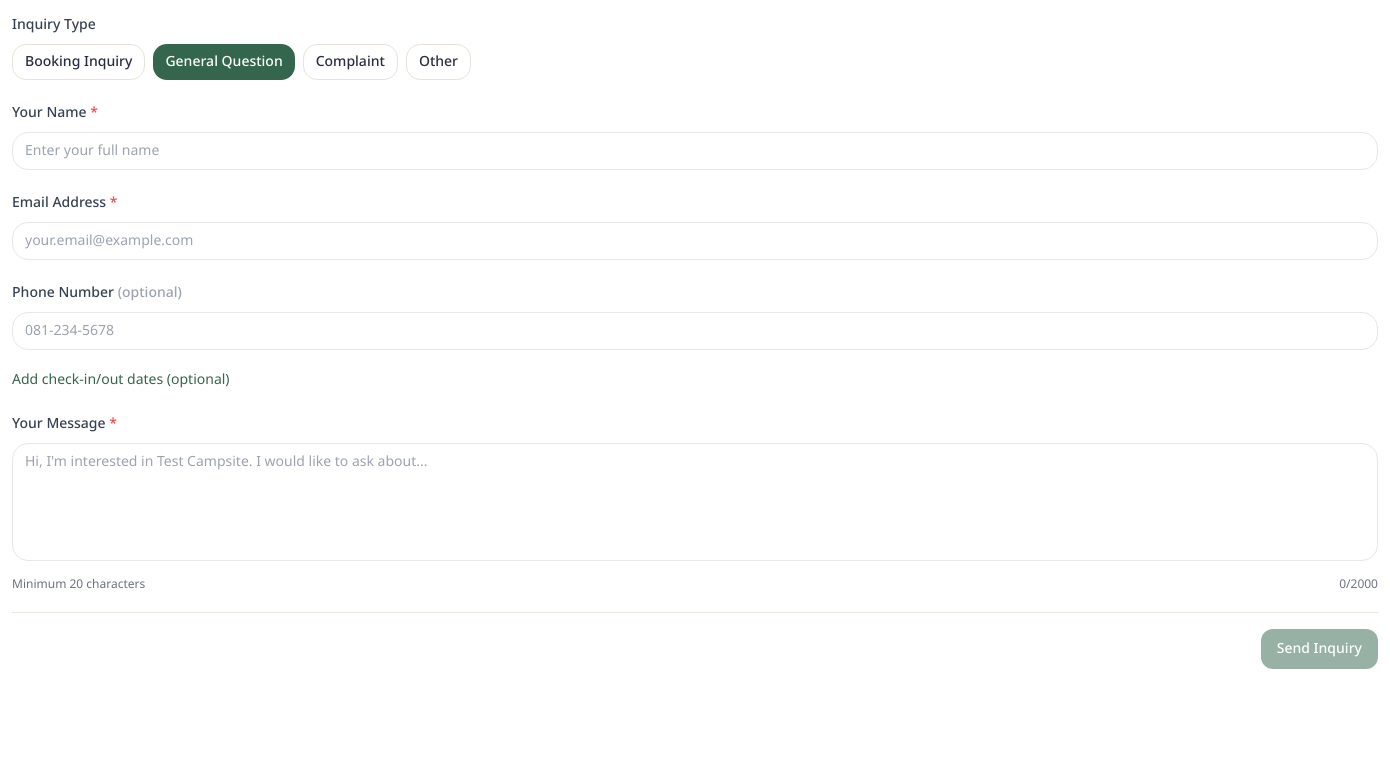
InquiryForm › Form Validation › shows error for name less than 2 characters
This screenshot has width=1390, height=780.
In the field labelled "Your Name *": [695, 151] box [12,132,1378,170], type "A"
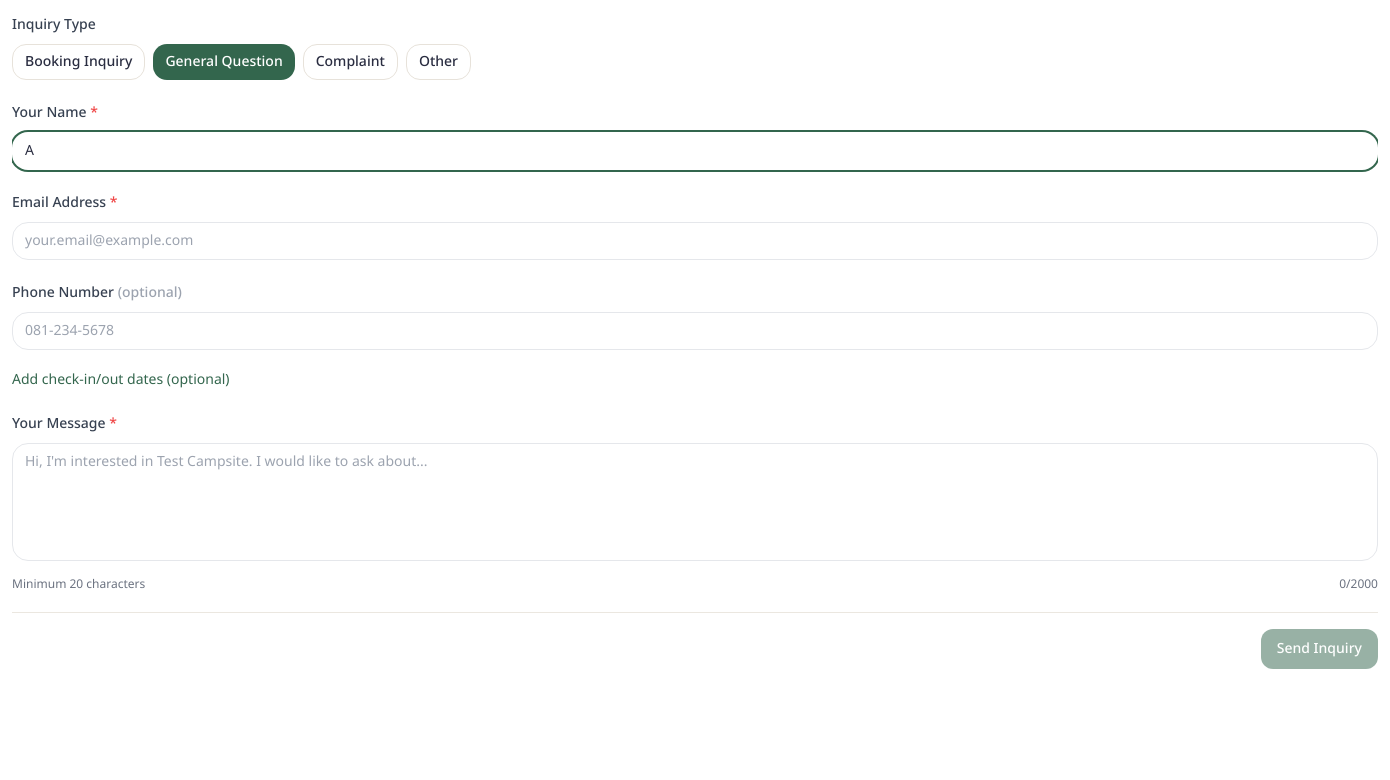
In the text box labelled "Your Message *": [695, 502] box [12,443,1378,561], type "This is a valid test message with at least 20 characters."
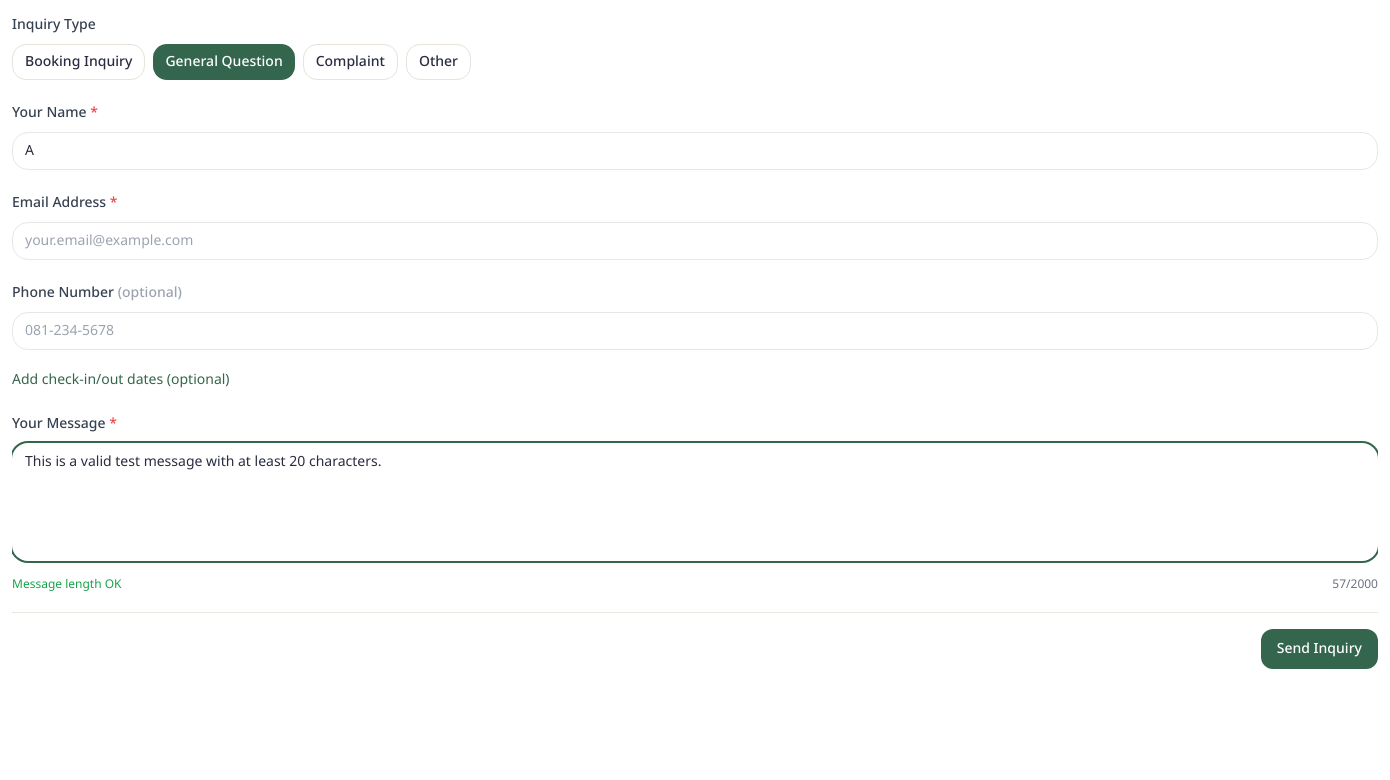
Click the button "Send Inquiry": [1319, 649] box [1261,629,1378,669]
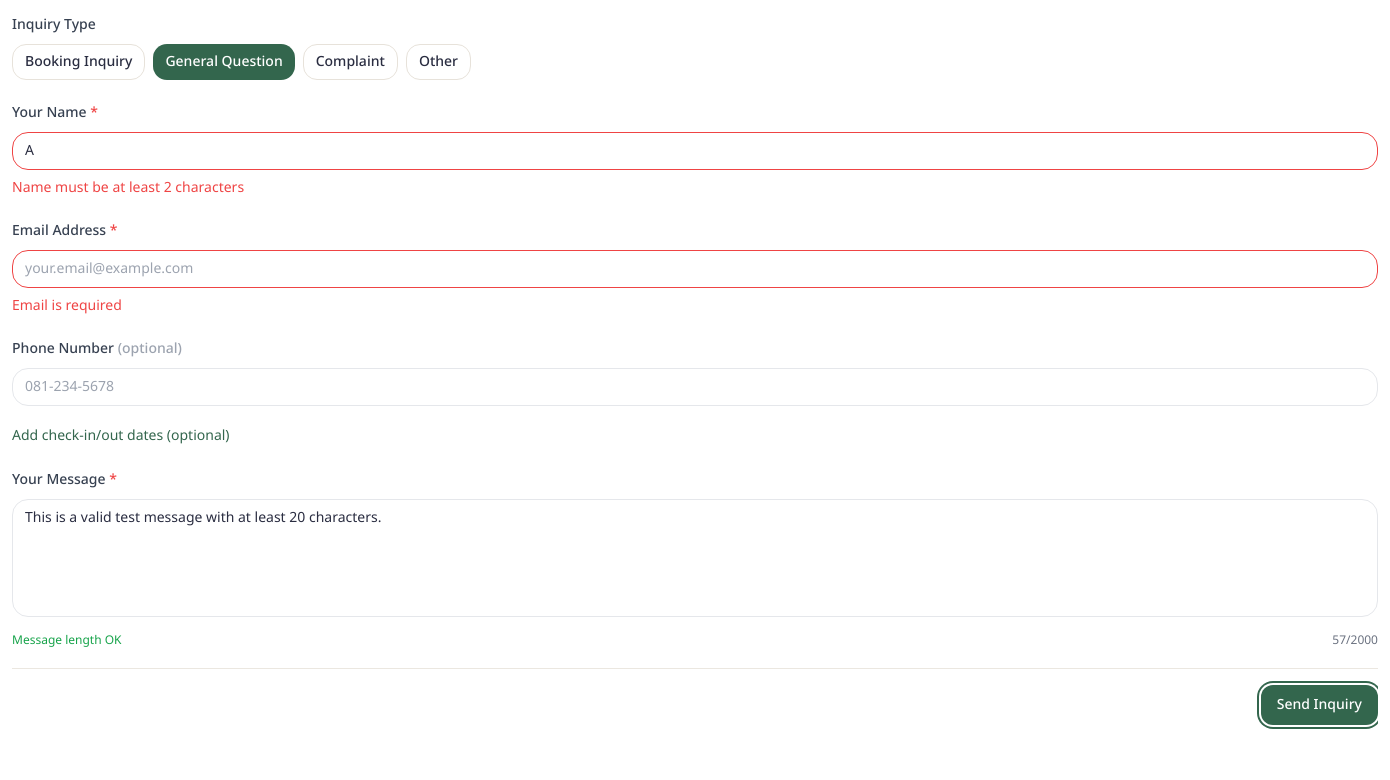
Check: the text "Name must be at least 2 characters" is shown, box [12,177,244,198]
